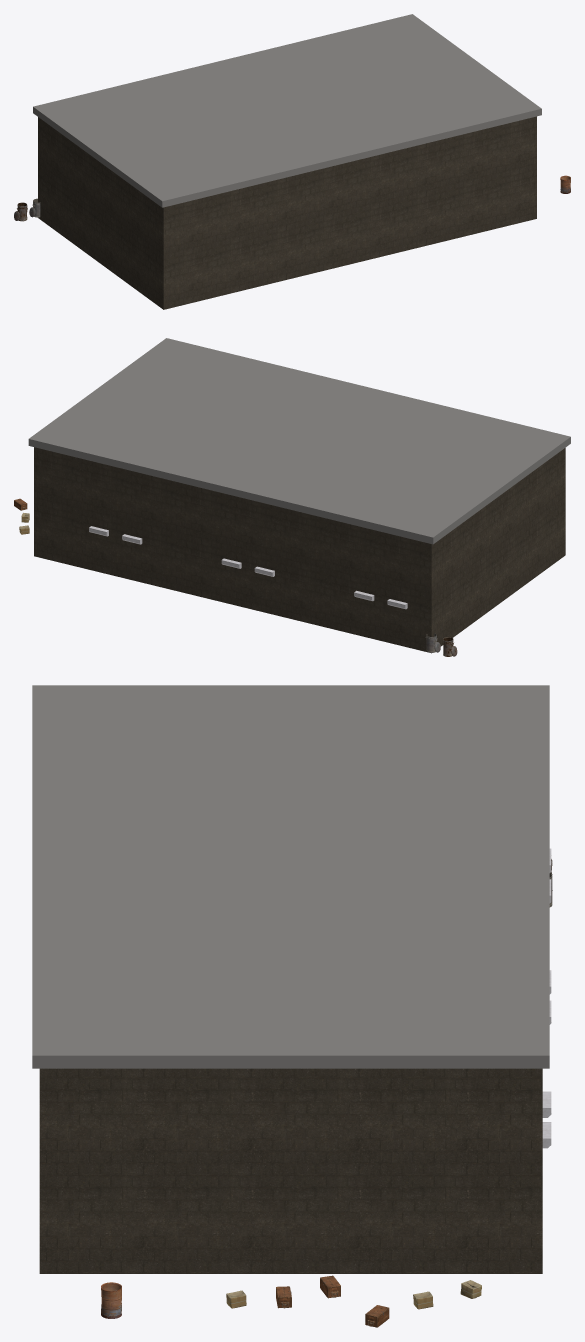
The model's file is chunk_CornerStore_SE.glb.
The picture shows the model from 3 angles, top to bottom: view 1: azimuth 30°, elevation 25°; view 2: azimuth 150°, elevation 25°; view 3: azimuth 270°, elevation 25°; orthographic projection. The views are drawn at different scales.
Parts seen in each view (by area): view 1: StoreRoofTrim, Store; view 2: StoreRoofTrim, Store; view 3: StoreRoofTrim, Store.
Boxes of the visible parts, bbox=[...] form: StoreRoofTrim: bbox=[33, 14, 541, 207]; Store: bbox=[38, 116, 536, 309]; StoreRoofTrim: bbox=[28, 338, 570, 544]; Store: bbox=[34, 447, 565, 653]; StoreRoofTrim: bbox=[32, 685, 549, 1068]; Store: bbox=[39, 1068, 542, 1273].
Bounding box in the file's own units: 29.31 × 6.8 × 14.48.
Materials: 11 (9 with a texture image).
